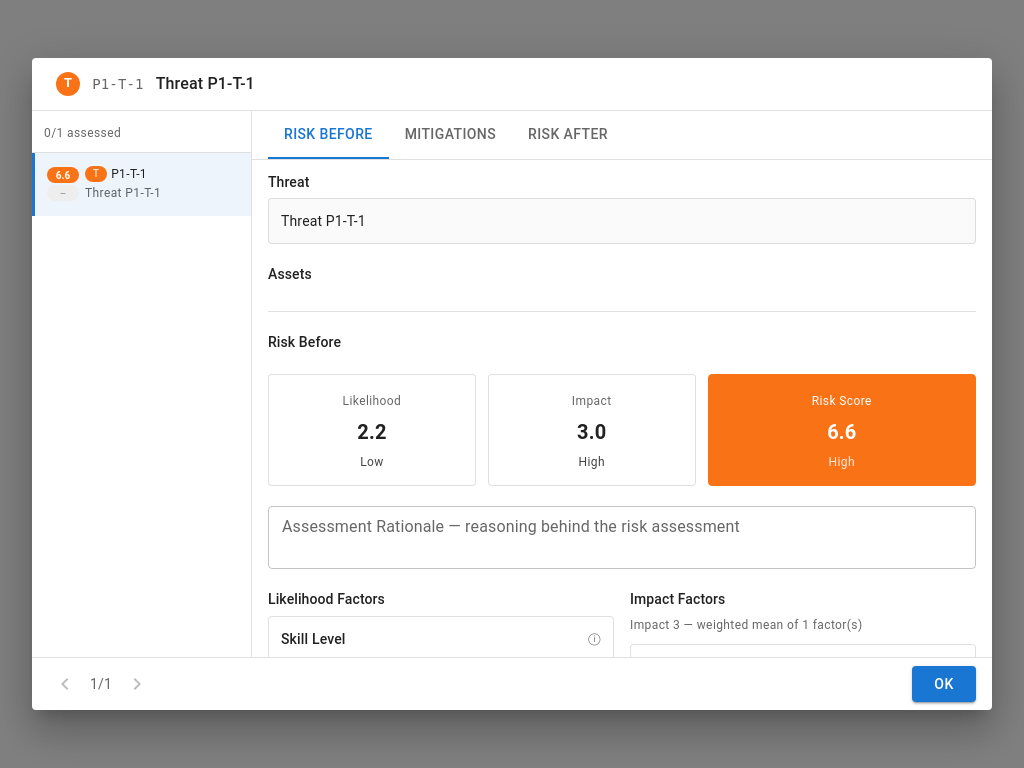
Test: RiskDialog — mitigations and treatment › treatment accept: priority won't, after = before, the note shown
This screenshot has width=1024, height=768.
Click the tab "Mitigations": x=450, y=135 top-left (389, 111), bottom-right (512, 159)
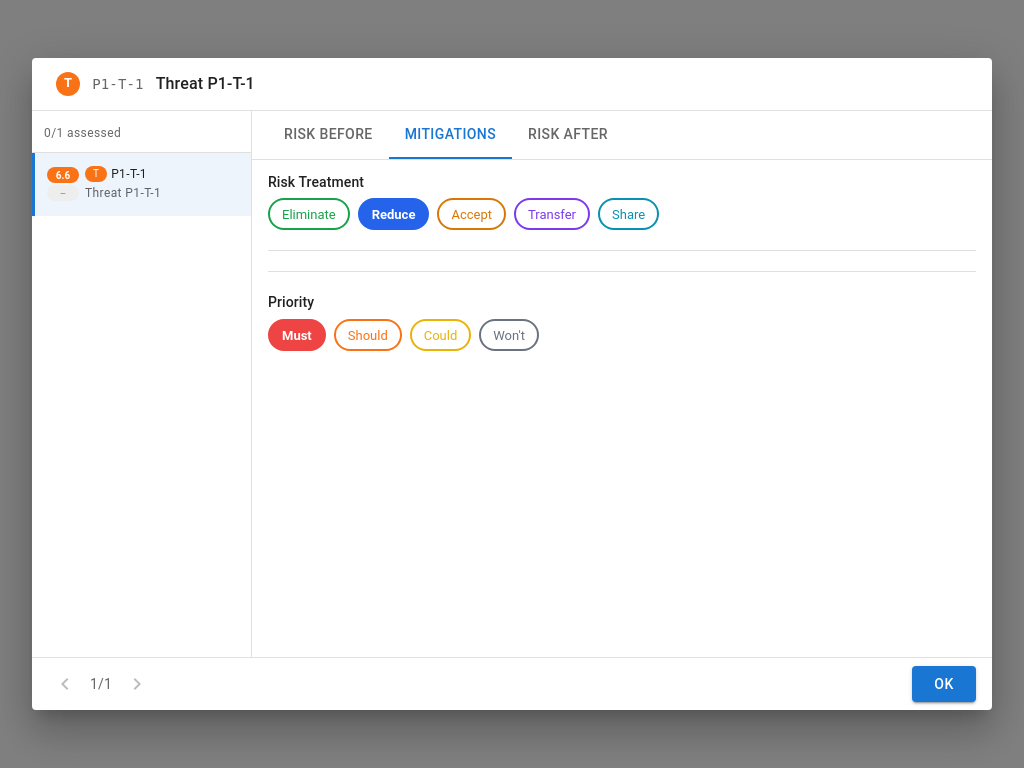
Click the button "Accept": x=472, y=214 top-left (437, 198), bottom-right (506, 230)
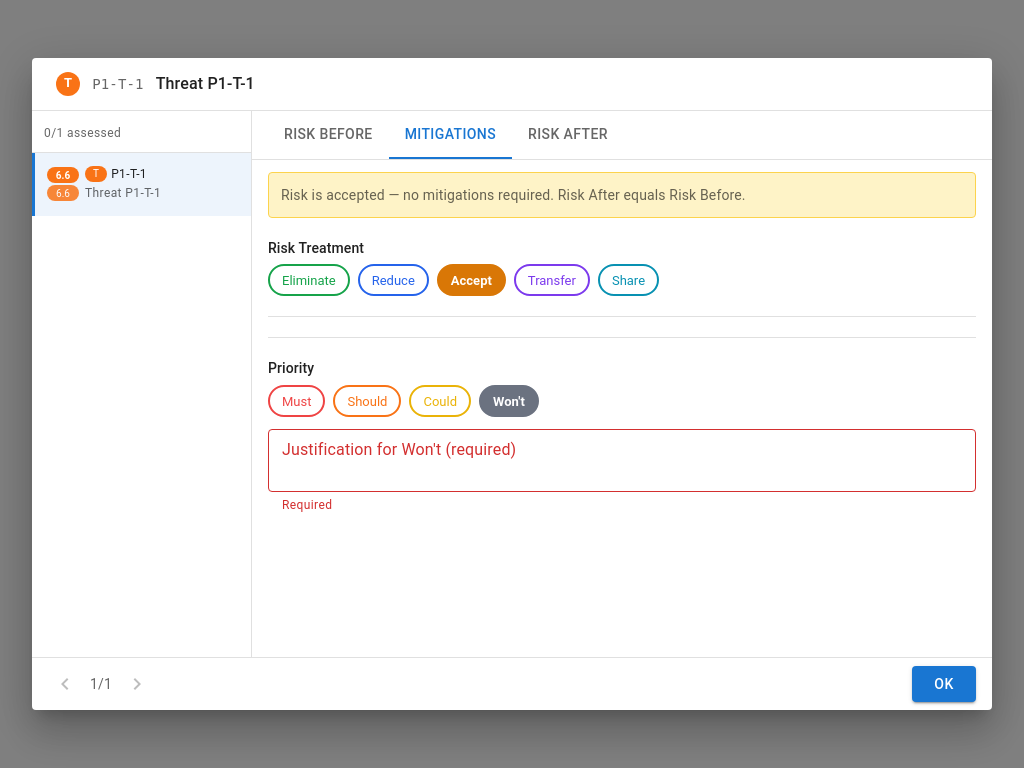
Expected: the text "Risk is accepted" is shown, top-left (281, 187), bottom-right (746, 203)
